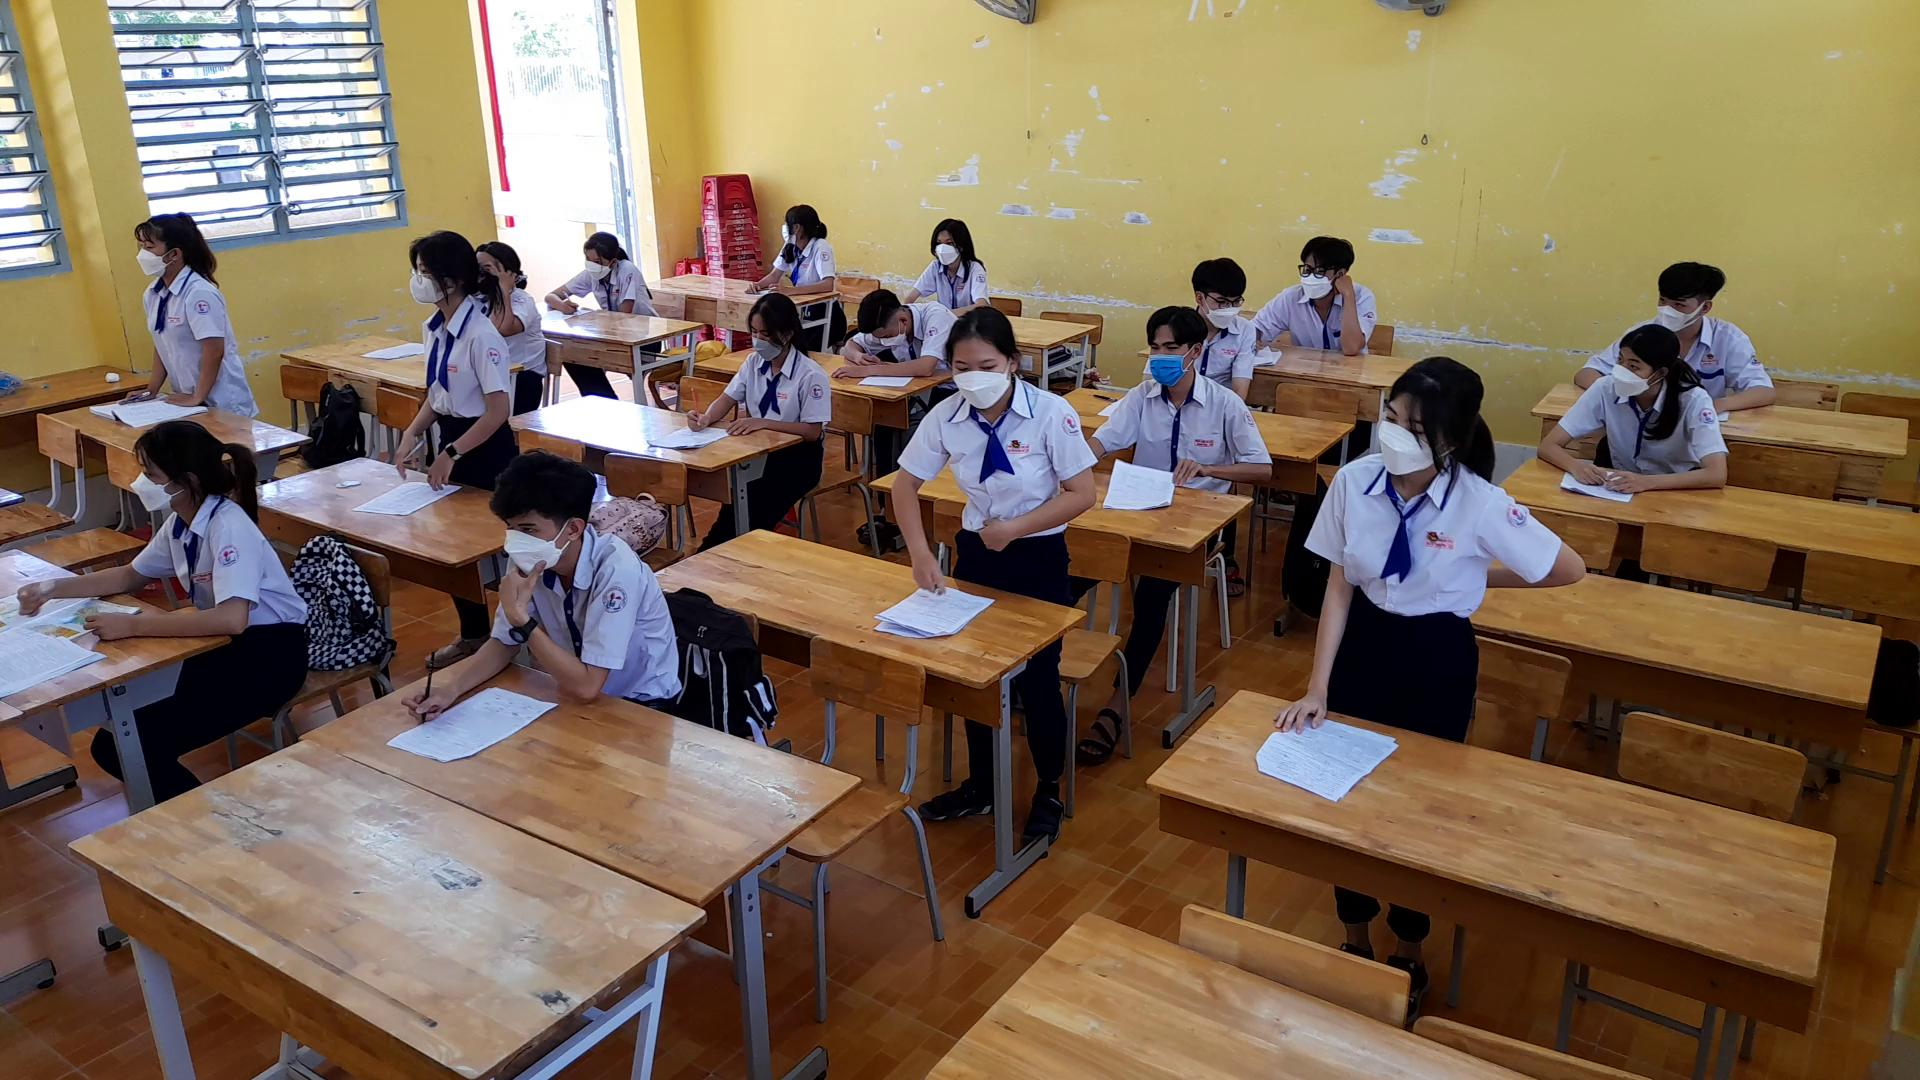Hand Under Table: (615, 260, 642, 320)
Look Around: (765, 195, 825, 260)
Normal: (15, 413, 314, 646), (1532, 320, 1729, 500), (1097, 302, 1274, 491), (680, 284, 840, 439), (905, 210, 993, 301)
Stand Up: (1269, 342, 1586, 737), (884, 302, 1105, 597), (378, 223, 516, 495), (124, 207, 245, 417)
Wave: (498, 555, 640, 711), (1328, 258, 1375, 360)
